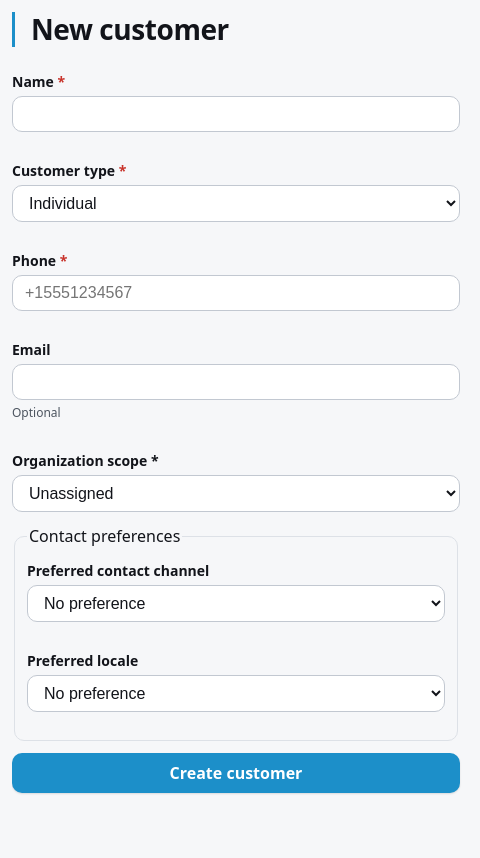
Test: CustomerCreatePage › rejects a phone number that is not E.164
This screenshot has width=480, height=858.
In the field labelled "Name *": (236, 114) 12,96 -> 460,132, type "Jane Doe"
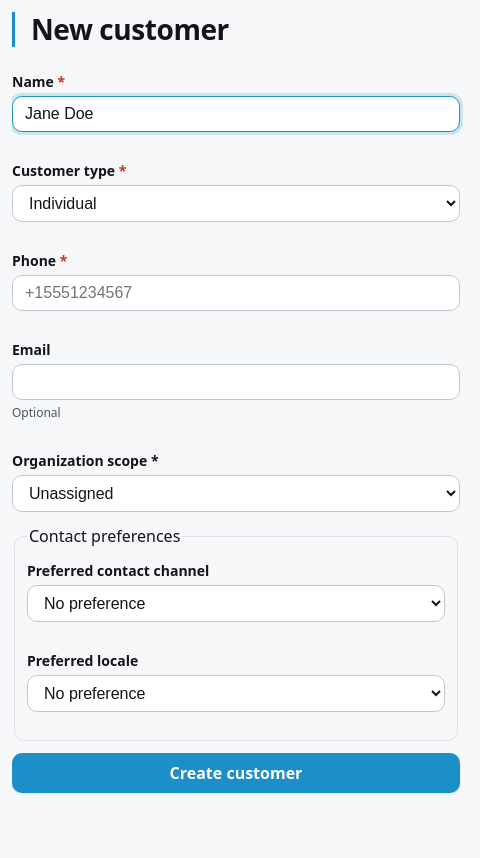
In the field labelled "Phone *": (236, 293) 12,275 -> 460,311, type "0501234567"
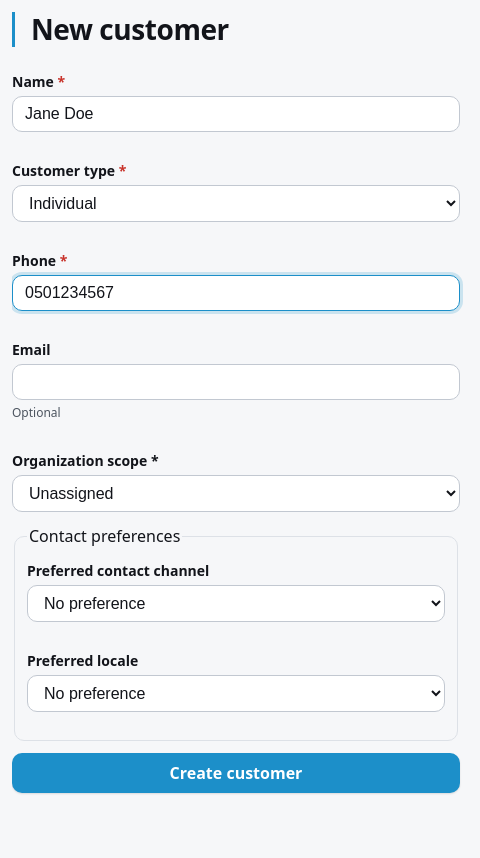
Click the button "Create customer": (236, 773) 12,753 -> 460,793
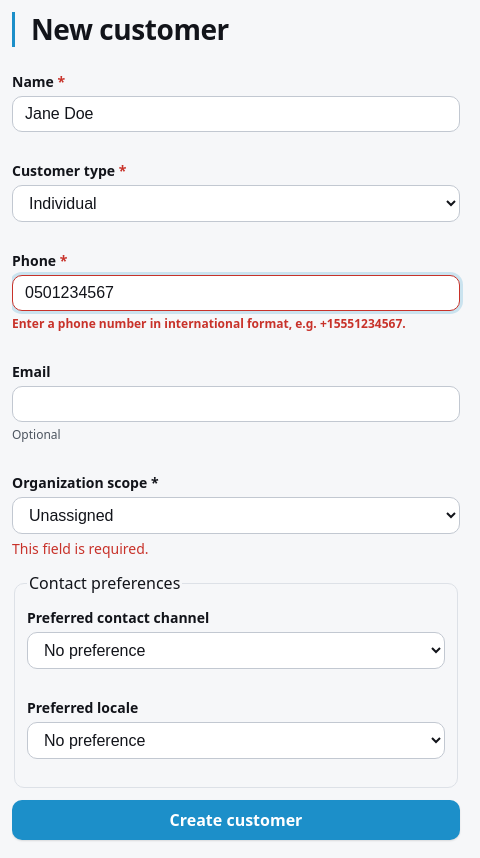
expect the text "Enter a phone number in international format, e.g. +15551234567." is shown: met, box 12,315 -> 460,333
